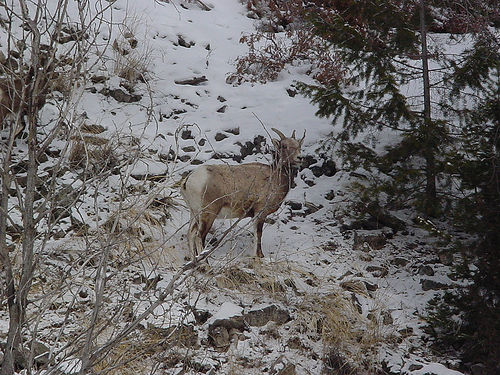goat: (180, 128, 304, 270)
